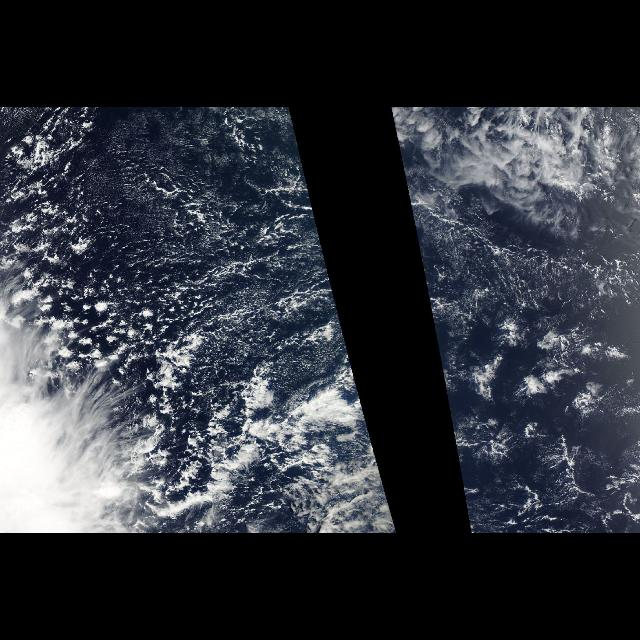Flower: (441, 307, 639, 447)
Gravel: (100, 118, 334, 460), (474, 407, 636, 529)
Sugar: (6, 108, 338, 358), (431, 225, 639, 312)
